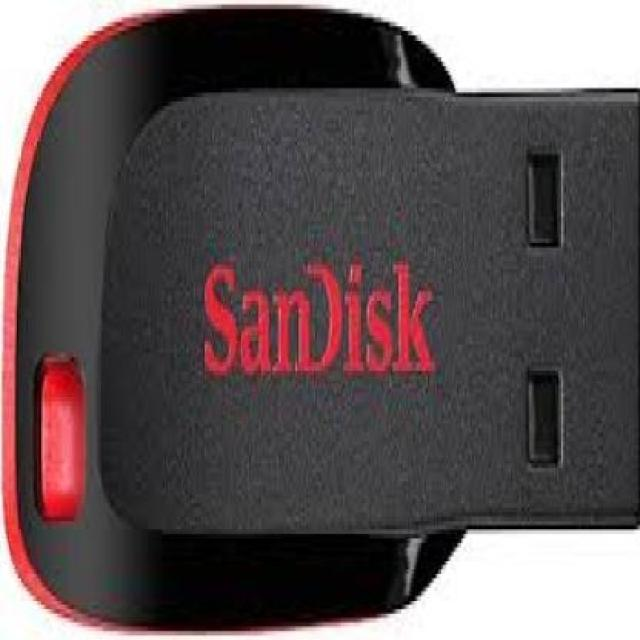Flashdisk: (2, 8, 638, 635)
